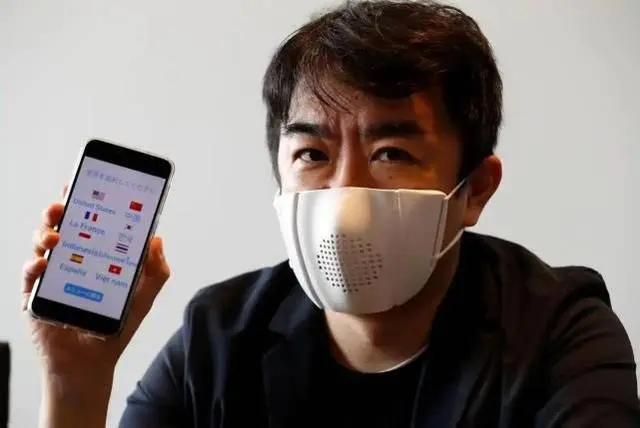withmask: (249, 4, 522, 321)
